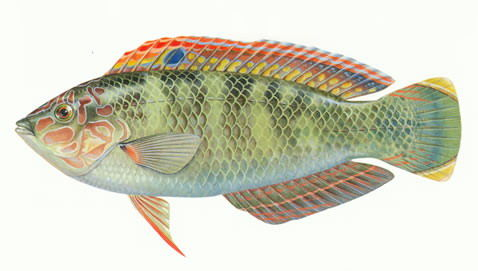fish: (14, 34, 462, 257)
